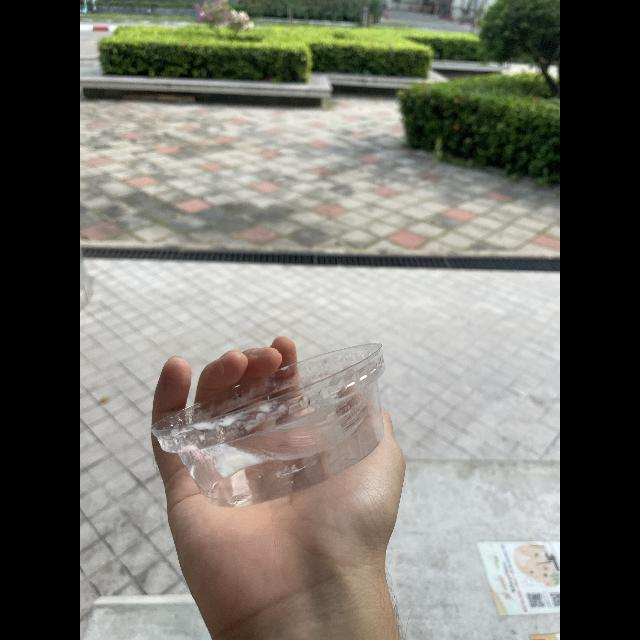plastic_cup_lid: (150, 337, 390, 505)
